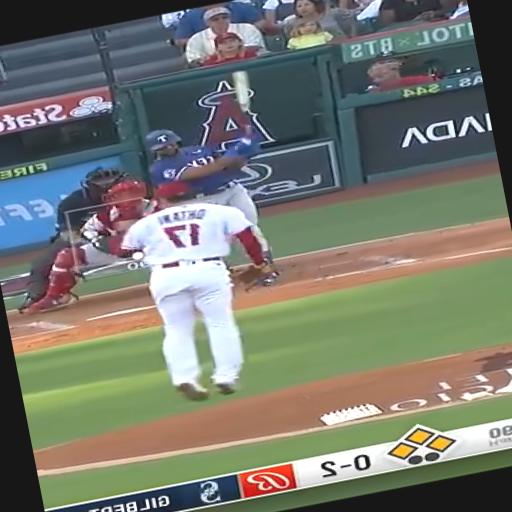bat: (231, 71, 252, 136)
